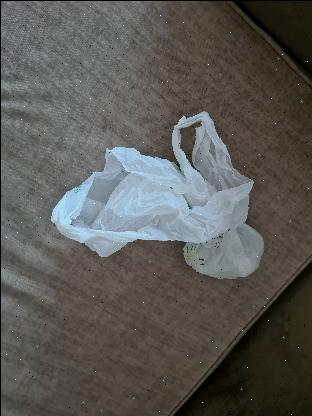Others: (50, 110, 264, 278)
